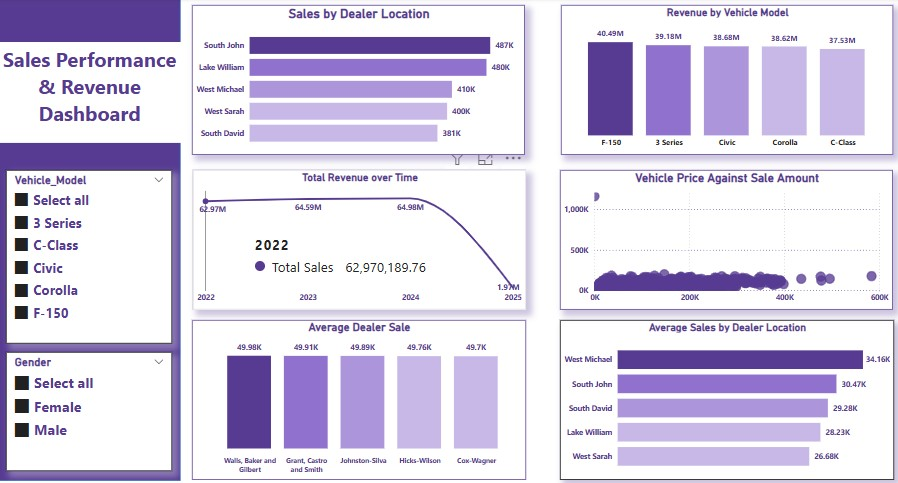

The page's visual inventory and layout, read from the dashboard file:
{"tool":"powerbi","page":{"name":"Sales Performance & Revenue Dashboard","canvas":[1445,785],"ordinal":0},"visuals":[{"type":"shape","box":[0,0,291.3,769.8],"z":0},{"type":"lineChart","title":"Total Revenue over Time","fields":{"Y":["Sheet 1.Total Sales"],"Category":["Sheet 1.Sale_Date.Variation.Date Hierarchy.Year"]},"box":[311.1,274.4,531.3,223.4],"z":1000},{"type":"clusteredColumnChart","title":" Revenue by Vehicle Model","fields":{"Category":["Sheet 1.Vehicle_Model"],"Y":["Sheet 1.Model Revenue"]},"box":[898.3,11.2,529.7,239.3],"z":2000},{"type":"clusteredBarChart","title":"Average Sales by Dealer Location","fields":{"Category":["Sheet 1.Dealer_Location"],"Y":["Sheet 1.Avg Sale Per Dealer"]},"box":[895.9,514.3,532.7,255.1],"z":3000},{"type":"barChart","title":" Sales by Dealer Location","fields":{"Category":["Sheet 1.Dealer_Location"],"Y":["Sheet 1.Dealer Sales"]},"box":[309.5,11.2,531.3,239.3],"z":4000},{"type":"columnChart","title":"Average Dealer Sale","fields":{"Category":["Sheet 1.Dealer_Name"],"Y":["Sheet 1.Avg Sale Per Dealer"]},"box":[310.2,514.3,532.7,255.1],"z":5000},{"type":"scatterChart","title":" Vehicle Price Against Sale  Amount","fields":{"Y":["Sheet 1.Sale_Amount"],"X":["Sheet 1.Vehicle_Price"],"Category":["Sheet 1.Vehicle_Price"]},"box":[896.7,274.4,531.3,223.4],"z":6000},{"type":"textbox","box":[0,70.2,292,161.2],"z":7000},{"type":"slicer","fields":{"Values":["Sheet 1.Vehicle_Model"]},"box":[13.3,275,265.5,276.9],"z":8000},{"type":"slicer","fields":{"Values":["Sheet 1.Gender"]},"box":[13.3,565.1,265.5,189.6],"z":9000}]}

Visuals, with their boxes in screenshot pixels (x1, y1, x2, y2), scaled from the page's 1445x785 canvas onto the 898x483 screenshot:
shape: bbox=[0, 0, 181, 474]
"Total Revenue over Time" lineChart: bbox=[193, 169, 524, 306]
" Revenue by Vehicle Model" clusteredColumnChart: bbox=[558, 7, 887, 154]
"Average Sales by Dealer Location" clusteredBarChart: bbox=[557, 316, 888, 473]
" Sales by Dealer Location" barChart: bbox=[192, 7, 523, 154]
"Average Dealer Sale" columnChart: bbox=[193, 316, 524, 473]
" Vehicle Price Against Sale  Amount" scatterChart: bbox=[557, 169, 887, 306]
textbox: bbox=[0, 43, 181, 142]
slicer - Sheet 1.Vehicle_Model: bbox=[8, 169, 173, 340]
slicer - Sheet 1.Gender: bbox=[8, 348, 173, 464]
